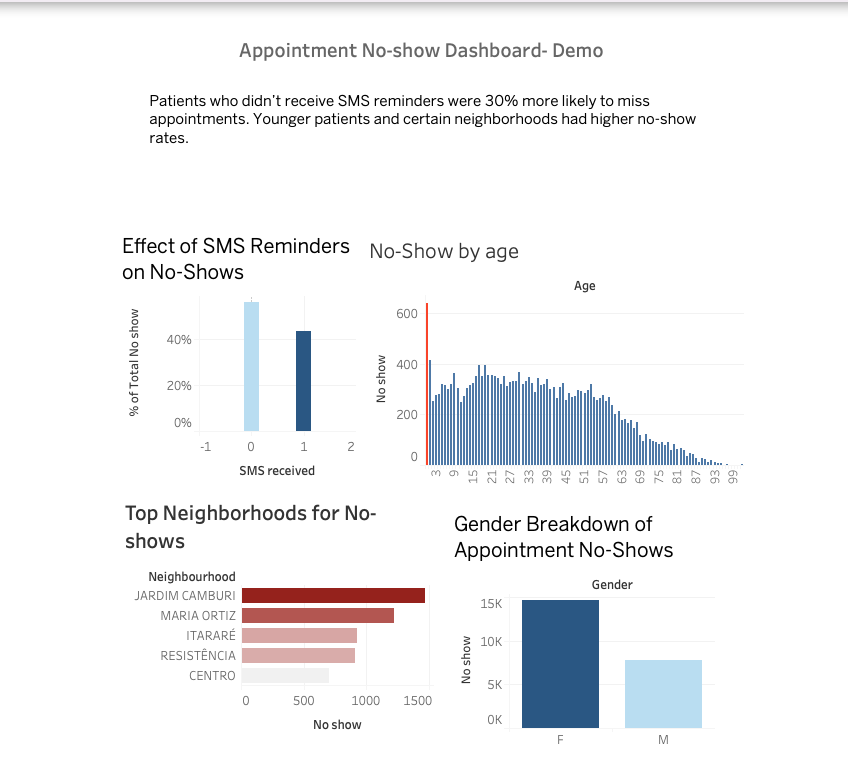

The dashboard page shown, as its layout file describes it:
{"tool":"tableau","page":{"name":"Dashboard 1","canvas":[650,860],"ordinal":0},"visuals":[{"type":"text","box":[25,28,593,67.1]},{"type":"text","box":[47,86.1,579,95.1]},{"type":"worksheet","title":"Effect of SMS Reminders on No-Shows","mark":"Bar","rows":["No_show"],"cols":["SMS_received"],"box":[18,247.2,238,266.2]},{"type":"worksheet","title":"No-Show by age","mark":"Automatic","rows":["No_show"],"cols":["Age"],"box":[265,250.5,379,268.4]},{"type":"worksheet","title":"No-show by Neighbourhood","mark":"Automatic","rows":["Neighbourhood"],"cols":["No_show"],"box":[21,522.3,313,286.3]},{"type":"worksheet","title":"Gender Breakdown of Appointment No-Shows","mark":"Automatic","rows":["No_show"],"cols":["Gender"],"box":[346,531.2,273,259.5]}]}

Visuals, with their boxes on the page's 650x860 design canvas (x1, y1, x2, y2). These are canvas units, not pixel positions in the 848x775 screenshot, which may show the page scaled, cropped or inside an application window:
text: region(25, 28, 618, 95)
text: region(47, 86, 626, 181)
"Effect of SMS Reminders on No-Shows" worksheet (Bar marks): region(18, 247, 256, 513)
"No-Show by age" worksheet: region(265, 250, 644, 519)
"No-show by Neighbourhood" worksheet: region(21, 522, 334, 809)
"Gender Breakdown of Appointment No-Shows" worksheet: region(346, 531, 619, 791)
